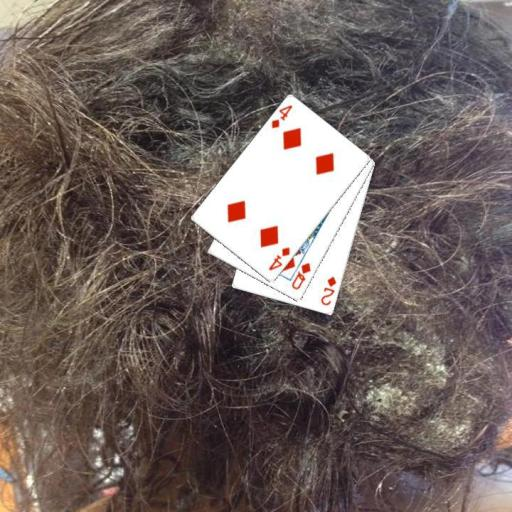2D: (318, 274, 338, 307)
4D: (265, 244, 292, 272), (268, 102, 294, 130)
QD: (288, 260, 312, 292)
